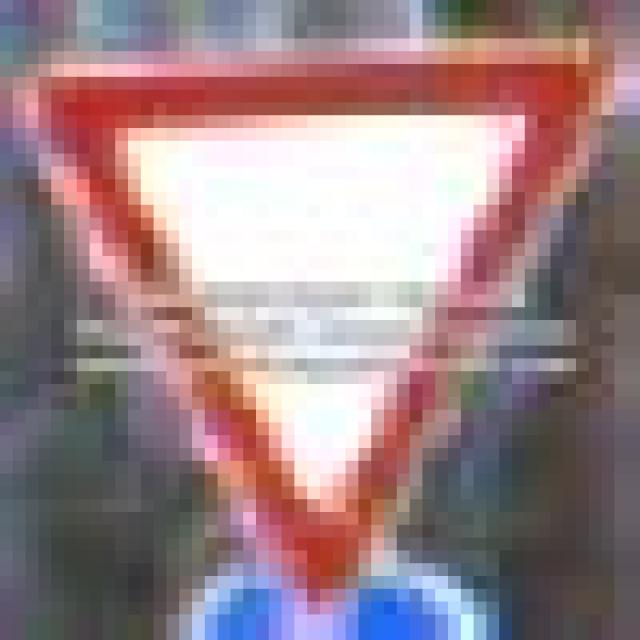GIVE_WAY: (13, 38, 627, 589)
